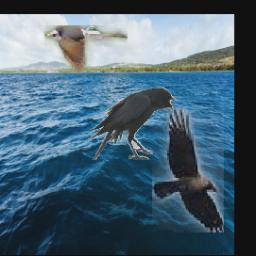Crow: (152, 108, 224, 233), (88, 87, 177, 160)
Cuckoo: (44, 26, 128, 74)
